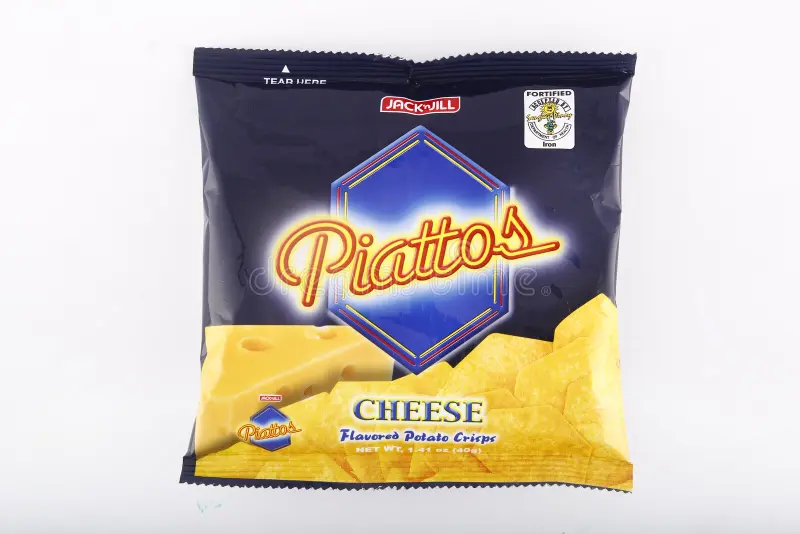non-toxic_waste: (196, 44, 636, 486)
